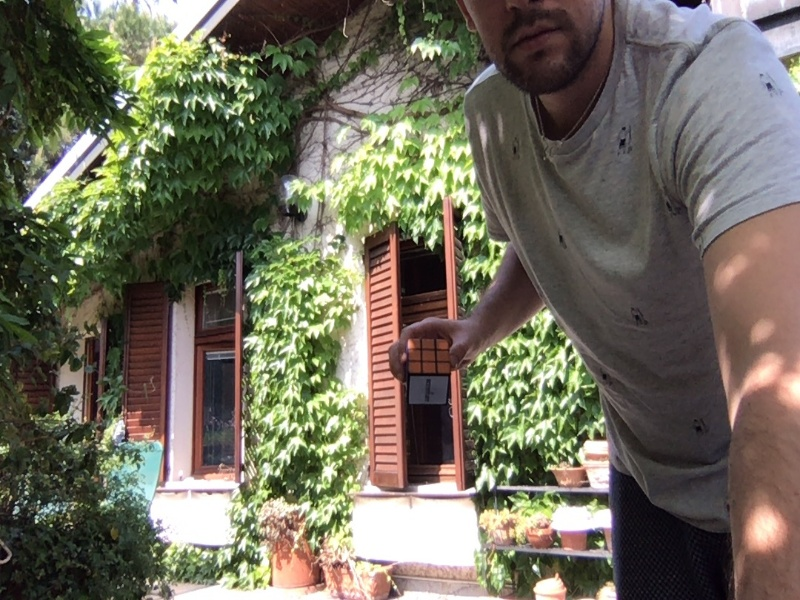rubik: (408, 338, 453, 405)
